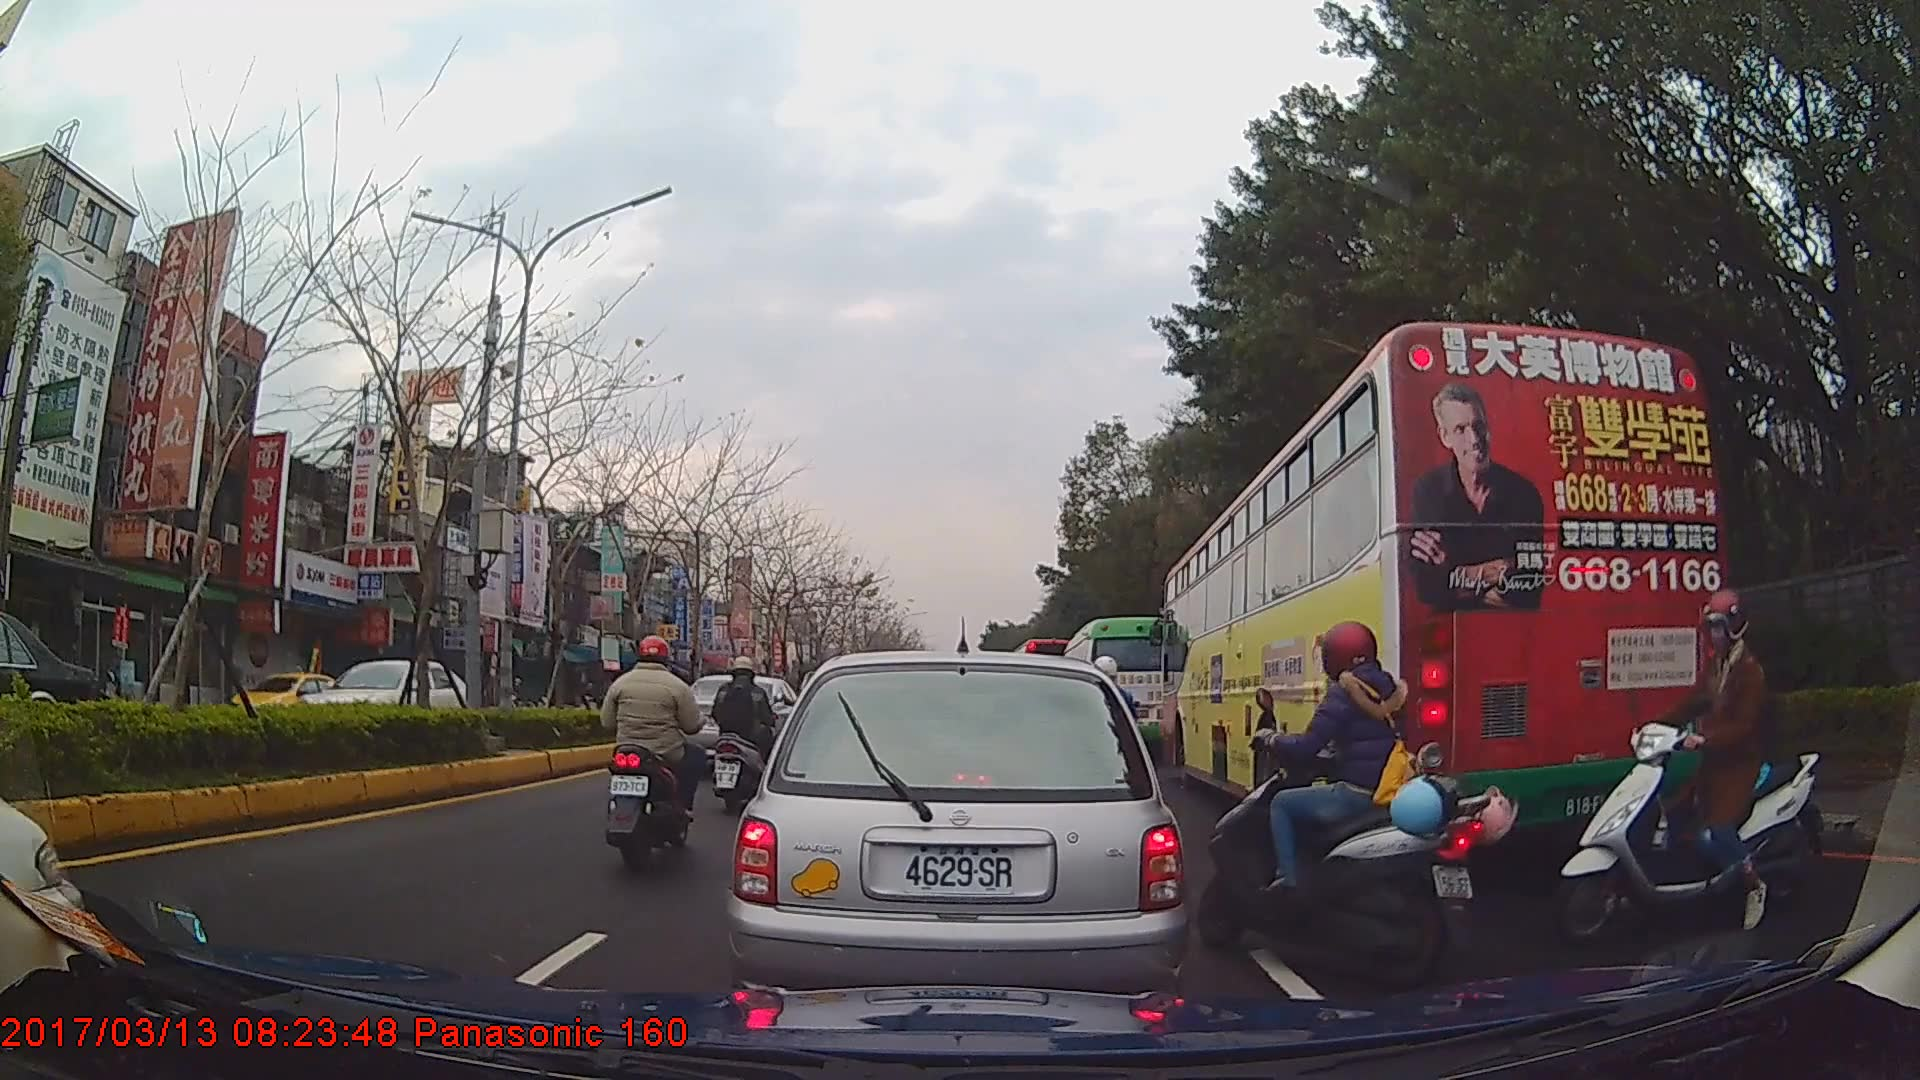rider: (1208, 616, 1512, 982), (1554, 587, 1823, 948), (600, 635, 707, 874), (708, 654, 776, 792)
vehicle: (1160, 319, 1728, 847), (730, 650, 1184, 1011), (1058, 615, 1183, 766), (300, 656, 477, 740), (0, 608, 94, 766), (224, 664, 363, 729)
